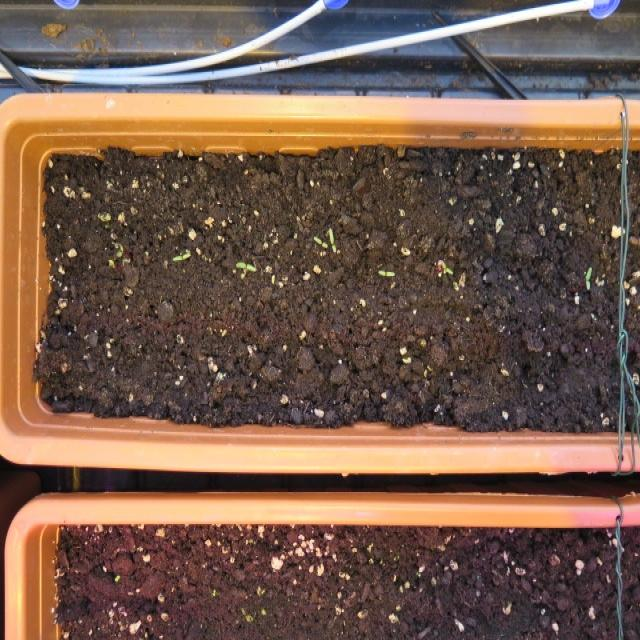crop: (578, 260, 596, 292), (228, 256, 259, 272), (432, 256, 455, 277), (372, 264, 399, 280), (166, 248, 198, 261)
